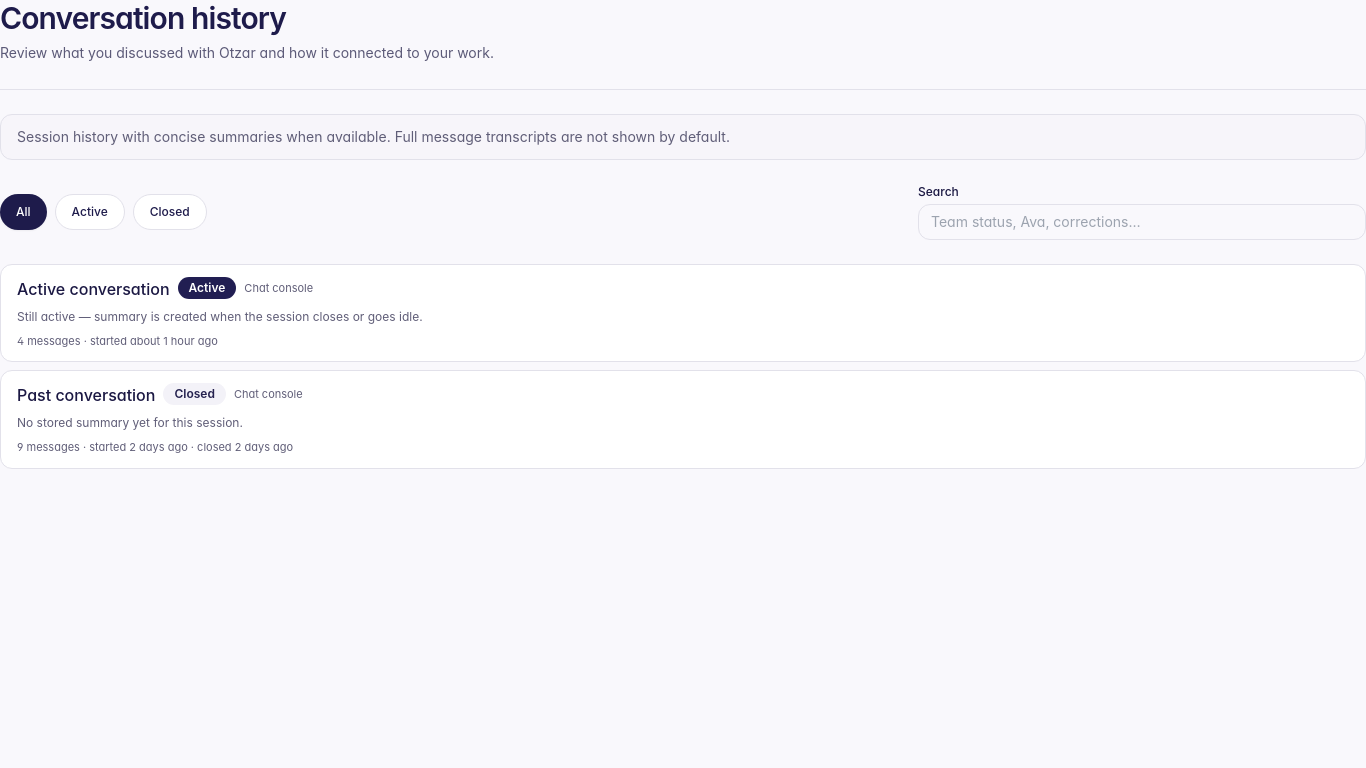
Test: Conversations (employee Otzar) › opens the look-back drawer from a row and shows the close summary (no raw ids)
Click the button "Closed". click: (86, 395)
box: [0, 370, 1365, 469]
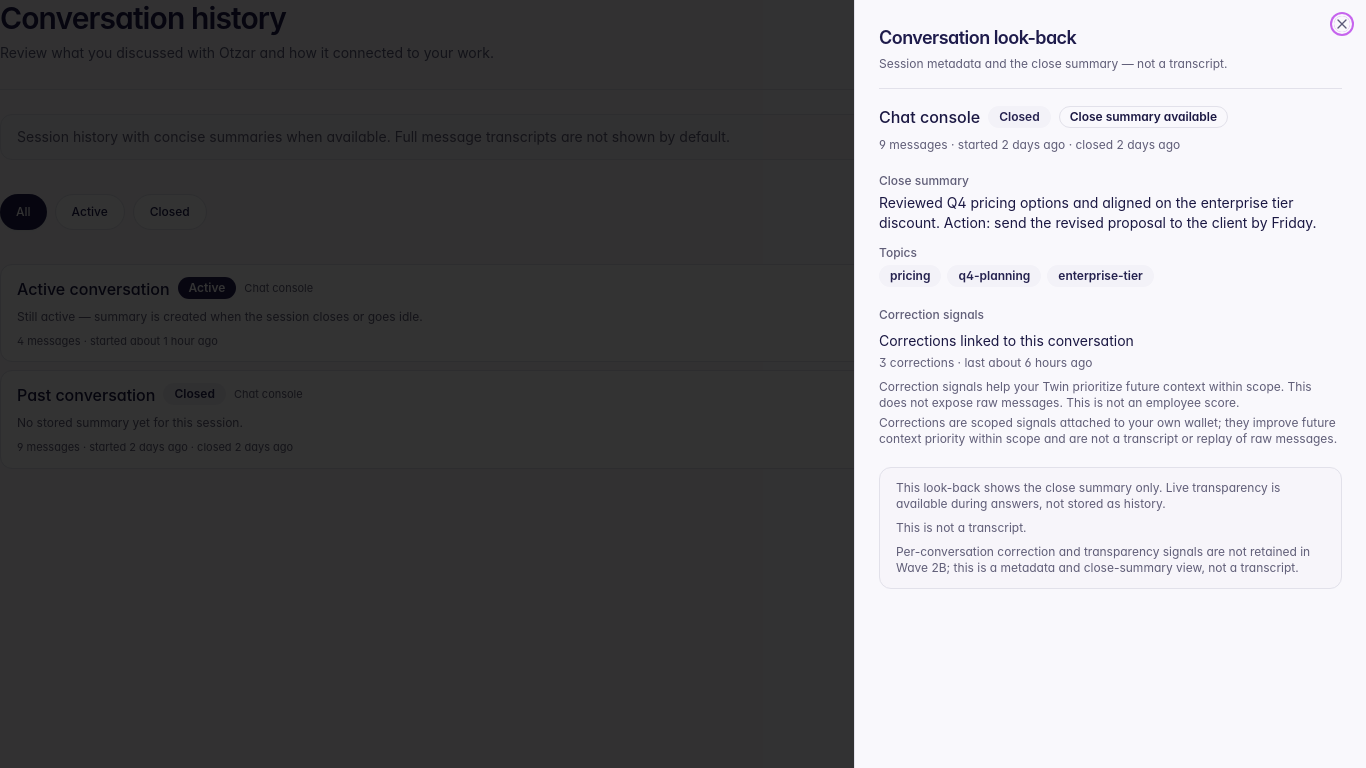
Now the element with test id "detail-summary" shows "Reviewed Q4 pricing", box [879, 194, 1317, 231]
Now the text "pricing" is shown, box [879, 265, 942, 287]
Now the element with test id "lookback-boundary-note" shows "This is not a transcript", box [896, 520, 1026, 535]
